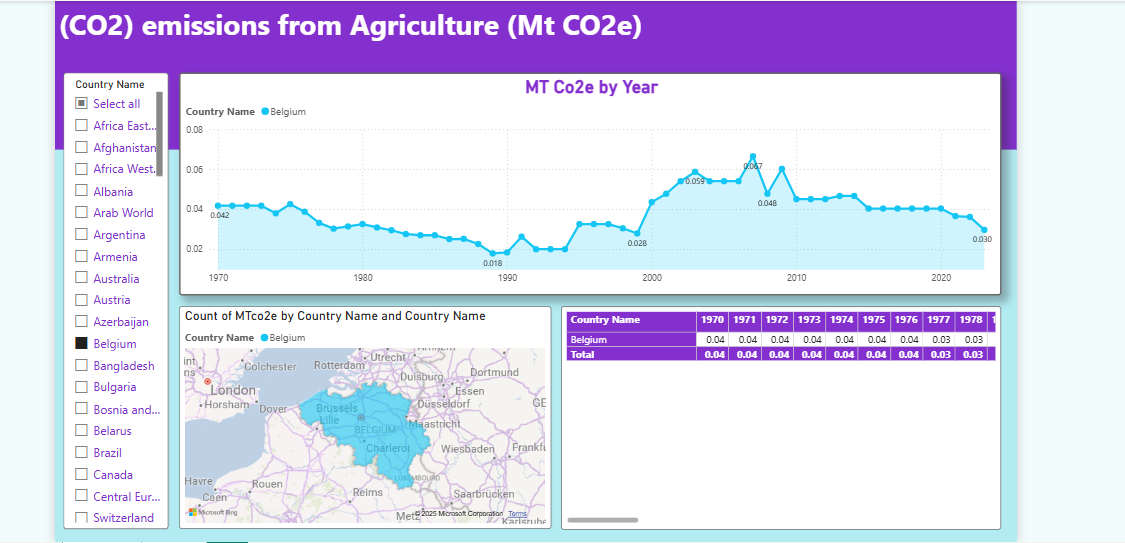

The page's visual inventory and layout, read from the dashboard file:
{"tool":"powerbi","page":{"name":"Page 1","canvas":[1280,720],"ordinal":0},"visuals":[{"type":"pivotTable","fields":{"Rows":["API_EN GHG CO2 AG MT CE AR5_DS2_en_csv_v2_47677.Country Name"],"Values":["Sum(API_EN GHG CO2 AG MT CE AR5_DS2_en_csv_v2_47677.MTco2e)"],"Columns":["API_EN GHG CO2 AG MT CE AR5_DS2_en_csv_v2_47677.Attribute.Variation.Date Hierarchy.Year"]},"box":[673.9,405.2,585.8,297.1],"z":0},{"type":"textbox","box":[0,0,1279.6,197.6],"z":2000},{"type":"slicer","fields":{"Values":["API_EN GHG CO2 AG MT CE AR5_DS2_en_csv_v2_47677.Country Name"]},"box":[11,95.7,139.9,607.3],"z":2500},{"type":"stackedAreaChart","title":"MT Co2e by Year","fields":{"Category":["API_EN GHG CO2 AG MT CE AR5_DS2_en_csv_v2_47677.Attribute.Variation.Date Hierarchy.Year"],"Y":["Sum(API_EN GHG CO2 AG MT CE AR5_DS2_en_csv_v2_47677.MTco2e)"],"Series":["API_EN GHG CO2 AG MT CE AR5_DS2_en_csv_v2_47677.Country Name"]},"box":[165.8,95.8,1093.6,296.6],"z":3000},{"type":"filledMap","fields":{"Category":["API_EN GHG CO2 AG MT CE AR5_DS2_en_csv_v2_47677.Country Name"],"Series":["API_EN GHG CO2 AG MT CE AR5_DS2_en_csv_v2_47677.Country Name"]},"box":[166.3,405.2,496.2,297.1],"z":4000}]}

Visuals, with their boxes on the page's 1280x720 design canvas (x1, y1, x2, y2). These are canvas units, not pixel positions in the 1125x543 screenshot, which may show the page scaled, cropped or inside an application window:
pivotTable - API_EN GHG CO2 AG MT CE AR5_DS2_en_csv_v2_47677.Country Name x Sum(API_EN GHG CO2 AG MT CE AR5_DS2_en_csv_v2_47677.MTco2e): 674, 405, 1260, 702
textbox: 0, 0, 1280, 198
slicer - API_EN GHG CO2 AG MT CE AR5_DS2_en_csv_v2_47677.Country Name: 11, 96, 151, 703
"MT Co2e by Year" stackedAreaChart: 166, 96, 1259, 392
filledMap - API_EN GHG CO2 AG MT CE AR5_DS2_en_csv_v2_47677.Country Name x API_EN GHG CO2 AG MT CE AR5_DS2_en_csv_v2_47677.Country Name: 166, 405, 662, 702
